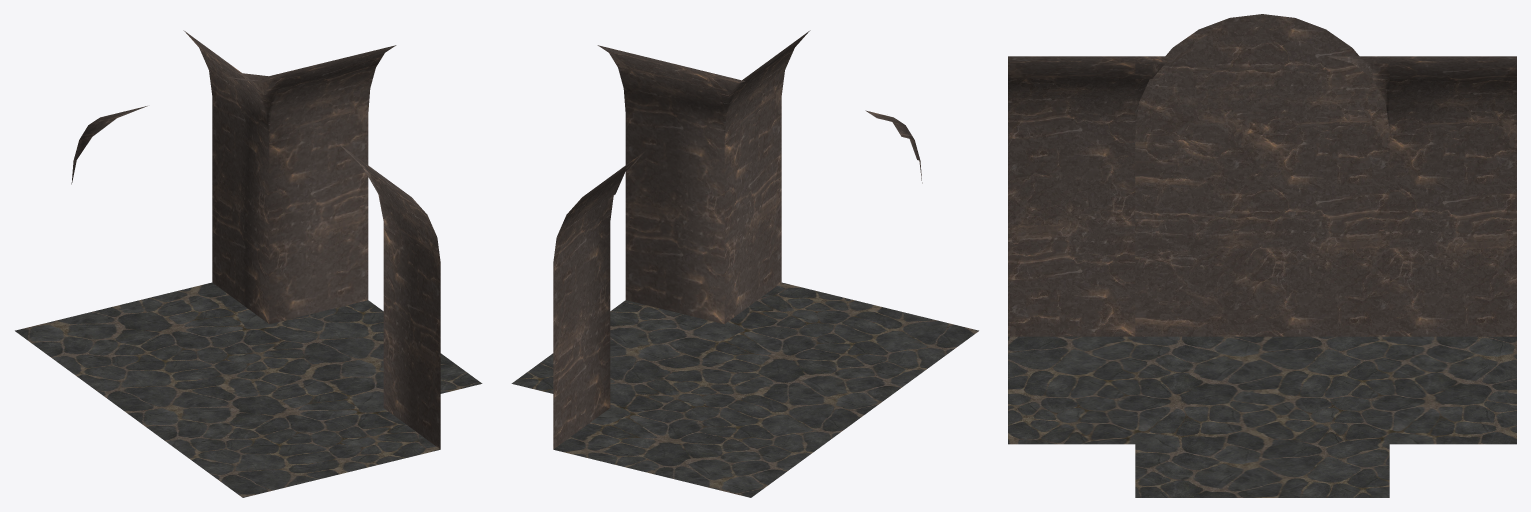
The model's file is hall-tee.db0849df.gltf.
3 renders of one model, left to right at view 1: azimuth 30°, elevation 25°; view 2: azimuth 150°, elevation 25°; view 3: azimuth 270°, elevation 25°, orthographic. The views are drawn at different scales.
Parts seen in each view (by area): view 1: hall-tee-mesh; view 2: hall-tee-mesh; view 3: hall-tee-mesh.
Part boxes in pixels (x1,y1,x2,y2): hall-tee-mesh: (15,30,482,497); hall-tee-mesh: (511,30,978,497); hall-tee-mesh: (1008,14,1516,497).
Bounding box in the file's own units: 3 × 2.8 × 4.
2 materials, 2 textured.
